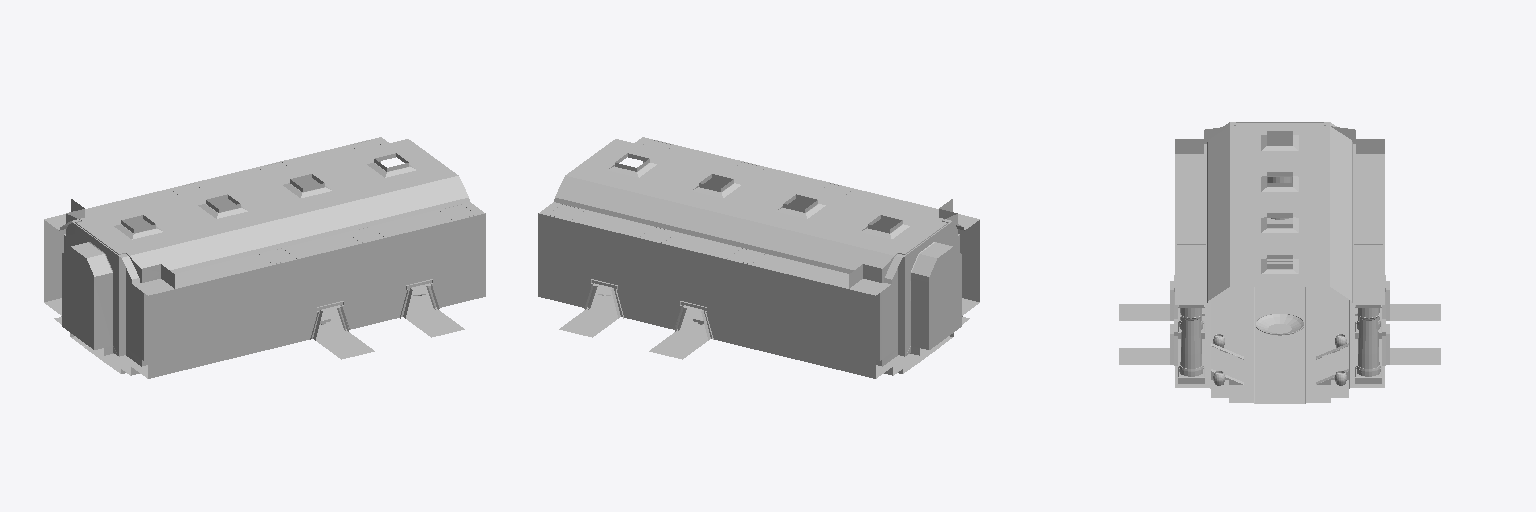
The model's file is sub_egpyt.obj.
3 renders of one model, left to right at view 1: azimuth 30°, elevation 25°; view 2: azimuth 150°, elevation 25°; view 3: azimuth 270°, elevation 25°, orthographic.
Visible parts, largest first — view 1: MainFloor_walls EgyptTomb_scene_substanceexport, EgyptTomb_scene_substanceexport Ceiling, EgyptTomb_scene_substanceexport RearWall1 RearWall; view 2: MainFloor_walls EgyptTomb_scene_substanceexport, EgyptTomb_scene_substanceexport Ceiling, EgyptTomb_scene_substanceexport RearWall1 RearWall; view 3: MainFloor_walls EgyptTomb_scene_substanceexport, EgyptTomb_scene_substanceexport Ceiling, EgyptTomb_scene_substanceexport RearWall1 RearWall, EgyptTomb_scene_substanceexport PillarBody Pillar_UV_1 PillarRow, EgyptTomb_scene_substanceexport Pillars PillarBody Pillar_UV_1 P, EgyptTomb_scene_substanceexport FireBowl, EgyptTomb_scene_substanceexport StairWays Steps StairWay_rt Step, EgyptTomb_scene_substanceexport StairWays Steps StairWay_lf Step.
Part boxes in pixels (left/top/right/bottom): MainFloor_walls EgyptTomb_scene_substanceexport: left=44, top=137, right=485, bottom=378; EgyptTomb_scene_substanceexport Ceiling: left=62, top=139, right=468, bottom=279; EgyptTomb_scene_substanceexport RearWall1 RearWall: left=62, top=199, right=174, bottom=366; MainFloor_walls EgyptTomb_scene_substanceexport: left=538, top=137, right=979, bottom=378; EgyptTomb_scene_substanceexport Ceiling: left=555, top=139, right=961, bottom=279; EgyptTomb_scene_substanceexport RearWall1 RearWall: left=849, top=199, right=961, bottom=366; MainFloor_walls EgyptTomb_scene_substanceexport: left=1119, top=142, right=1440, bottom=403; EgyptTomb_scene_substanceexport Ceiling: left=1208, top=122, right=1351, bottom=300; EgyptTomb_scene_substanceexport RearWall1 RearWall: left=1175, top=122, right=1384, bottom=153; EgyptTomb_scene_substanceexport PillarBody Pillar_UV_1 PillarRow: left=1356, top=308, right=1380, bottom=376; EgyptTomb_scene_substanceexport Pillars PillarBody Pillar_UV_1 P: left=1179, top=308, right=1203, bottom=376; EgyptTomb_scene_substanceexport FireBowl: left=1255, top=313, right=1304, bottom=335; EgyptTomb_scene_substanceexport StairWays Steps StairWay_rt Step: left=1320, top=346, right=1348, bottom=379; EgyptTomb_scene_substanceexport StairWays Steps StairWay_lf Step: left=1211, top=346, right=1239, bottom=379.
Bounding box in the file's own units: 86.64 × 29.05 × 68.21.